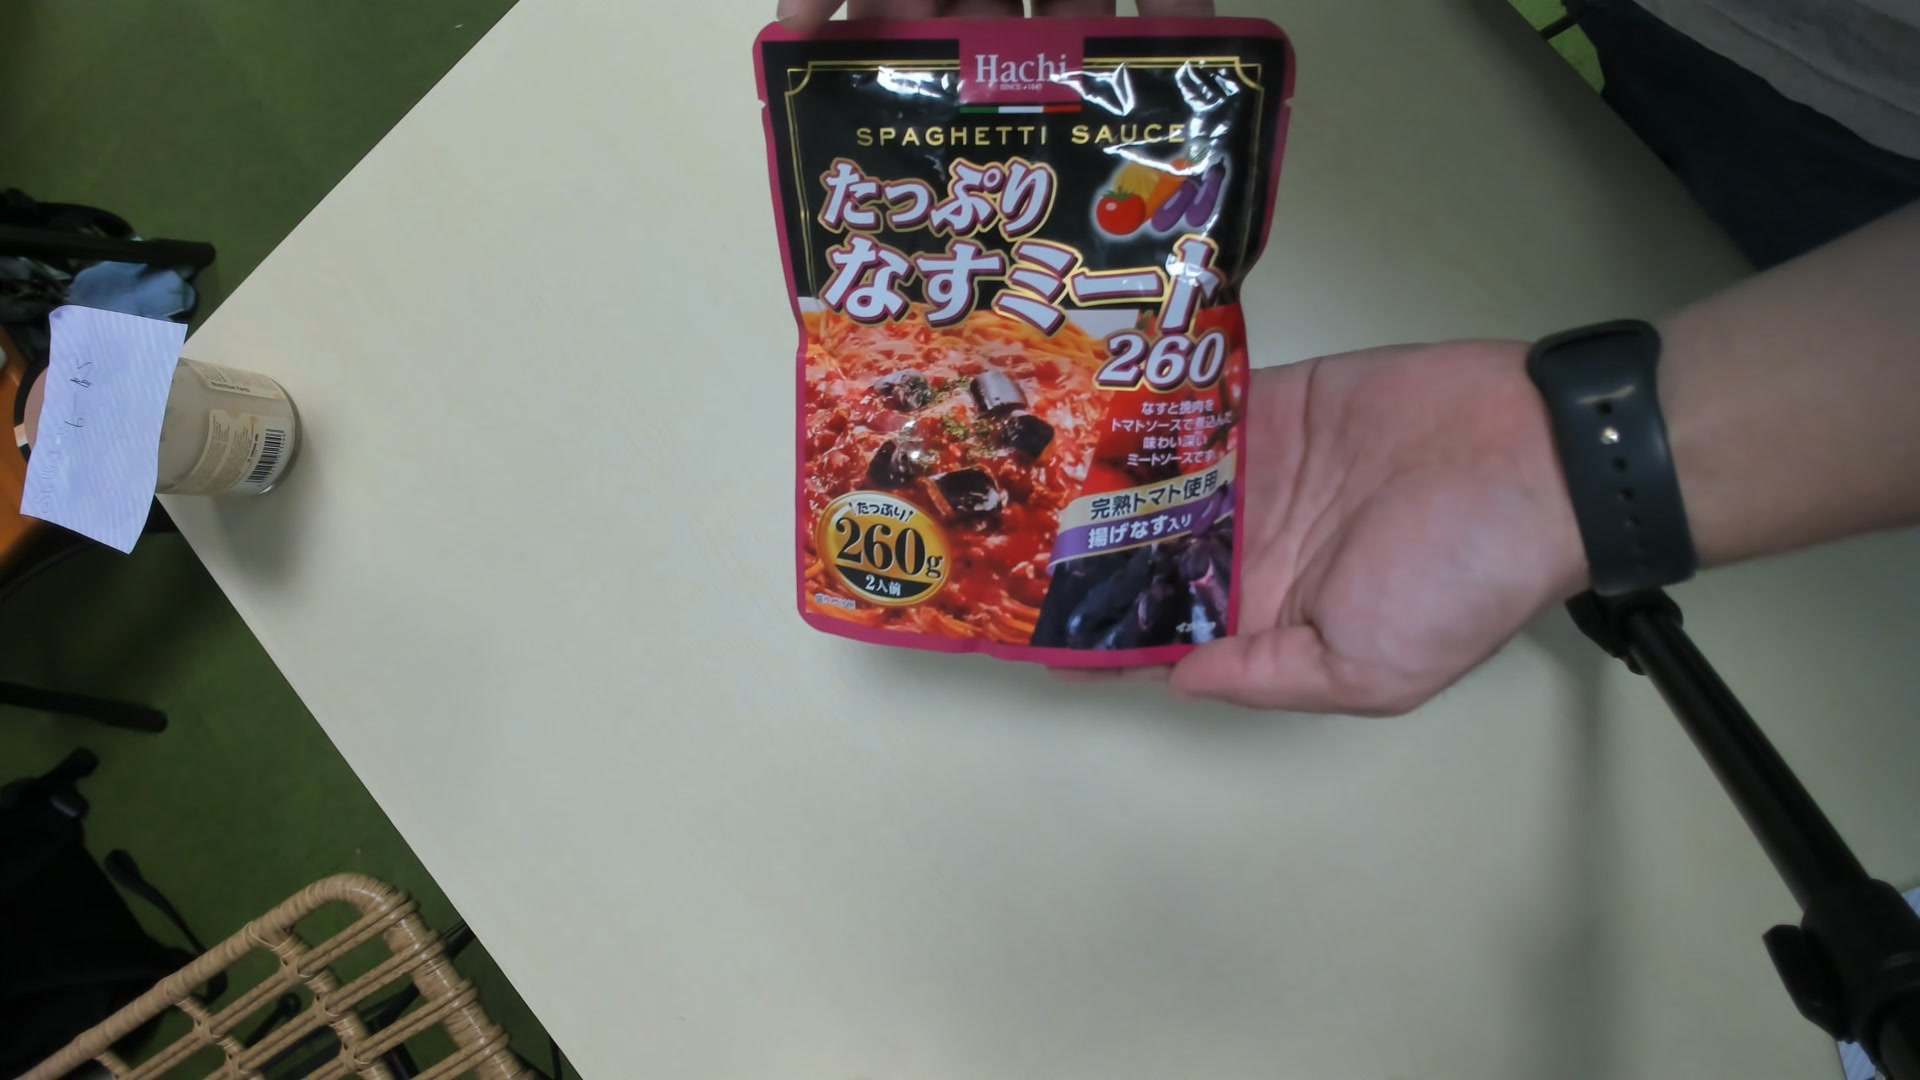PastaSauce_200-299g_NonHalal_NonHealthy: (764, 34, 1262, 662)
